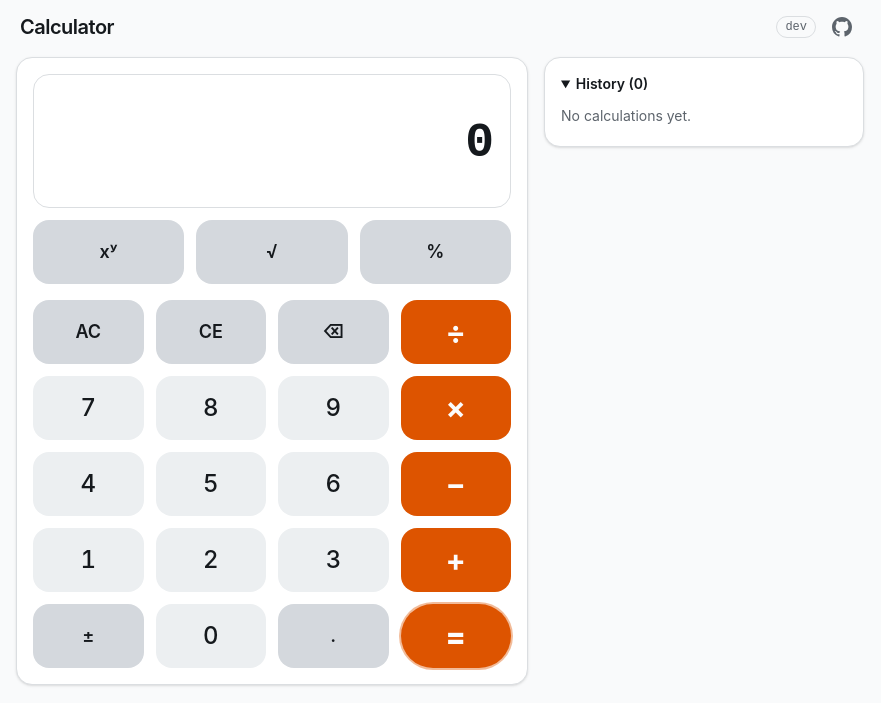
accessibility › has no violations while an error is on the display
Click the button "1": coordinates (88, 560) [33, 528, 144, 592]
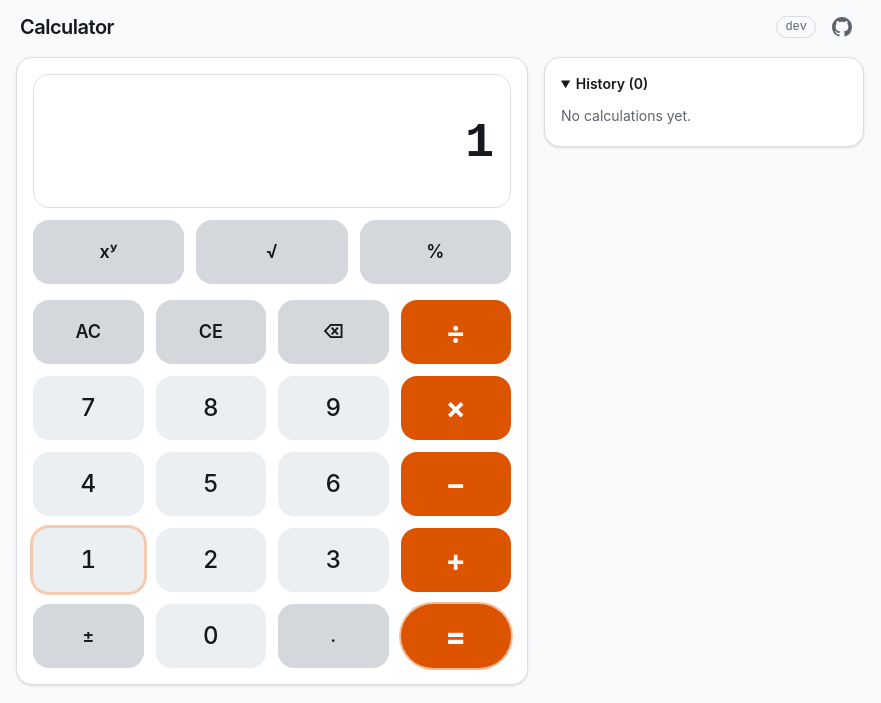
Click the button named "divide": coordinates (456, 332) [400, 300, 511, 364]
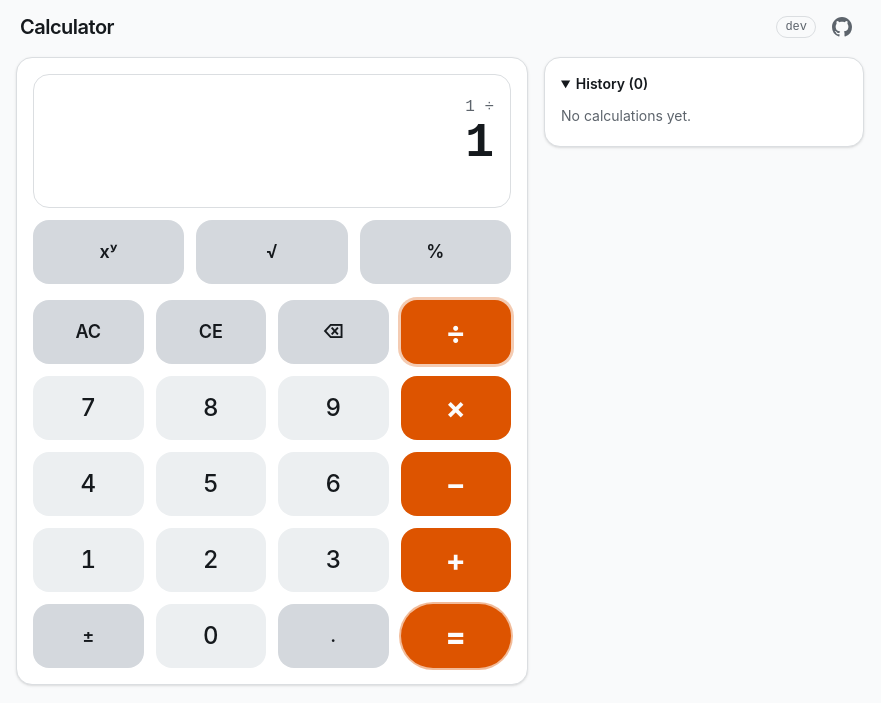
Click the button "0": coordinates (211, 636) [156, 604, 266, 668]
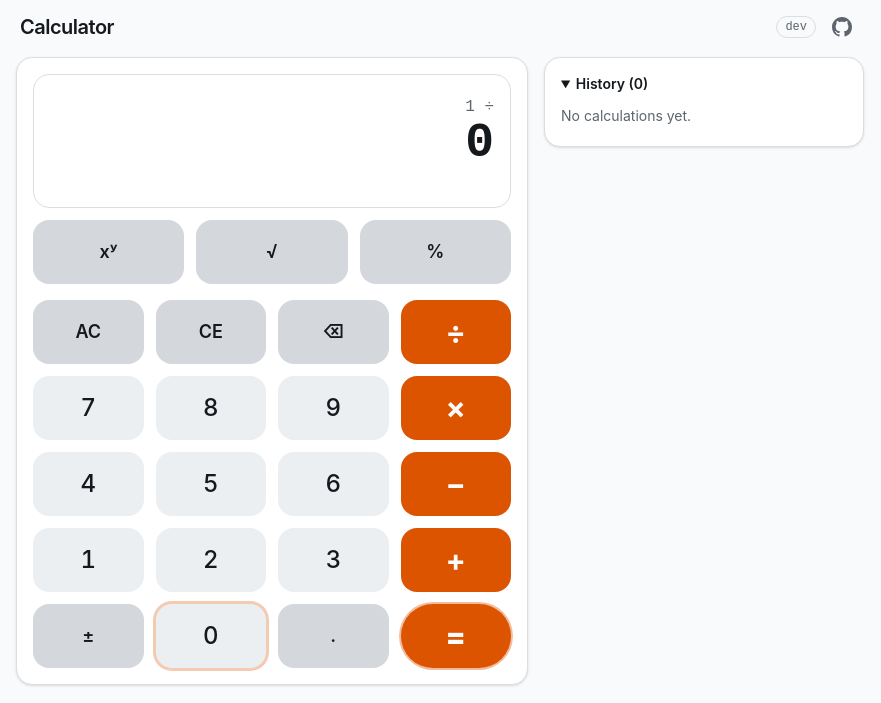
Click the button named "equals": coordinates (456, 636) [400, 604, 511, 668]
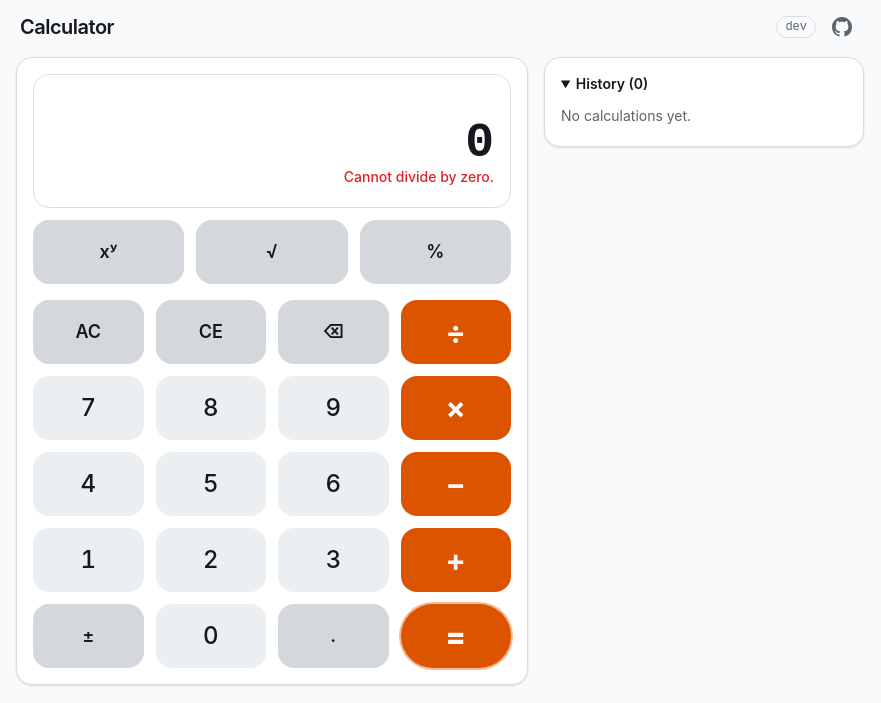
expect the message reads "Cannot divide by zero.": met, box [344, 168, 494, 185]
